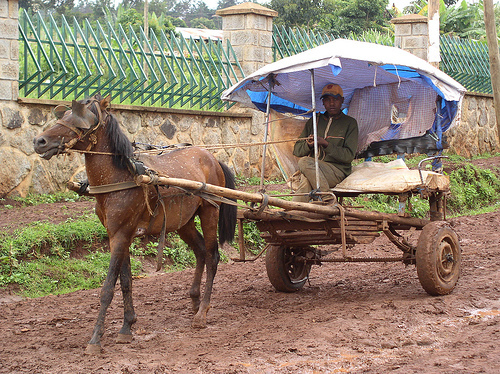horse: (34, 94, 238, 355)
